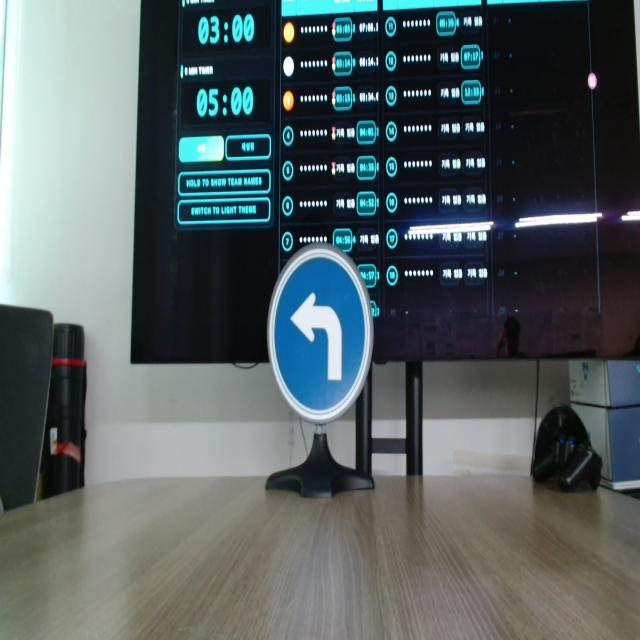left_direction: (264, 220, 396, 452)
